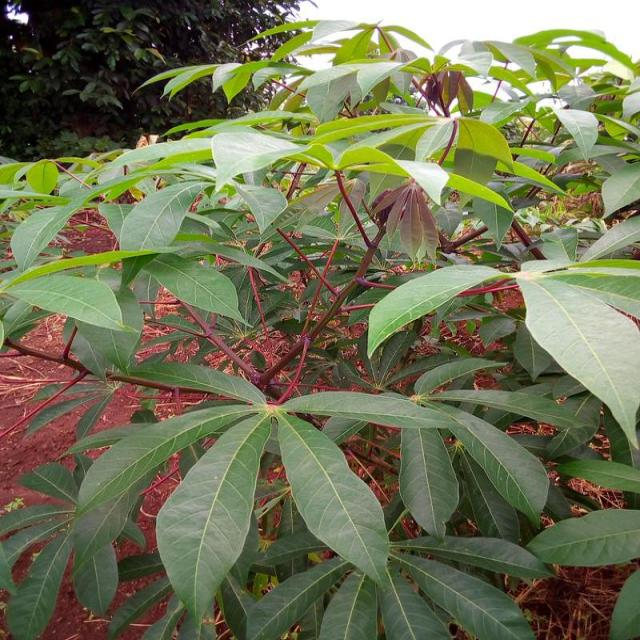cassava leaf: (0, 18, 638, 638), (154, 408, 271, 634), (516, 262, 638, 452), (275, 408, 390, 586)
